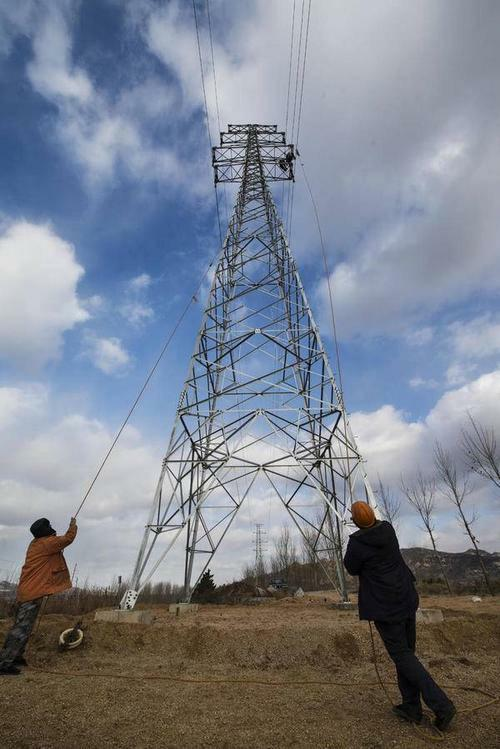power_tower: (120, 109, 383, 628)
